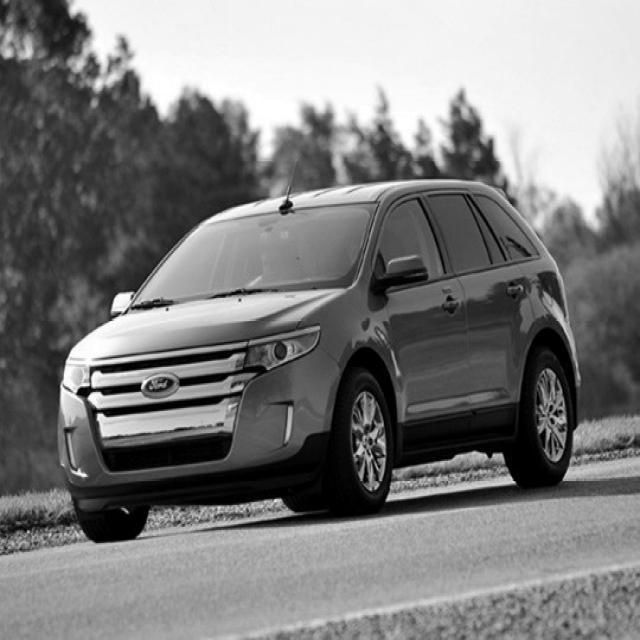car: (56, 168, 580, 542)
